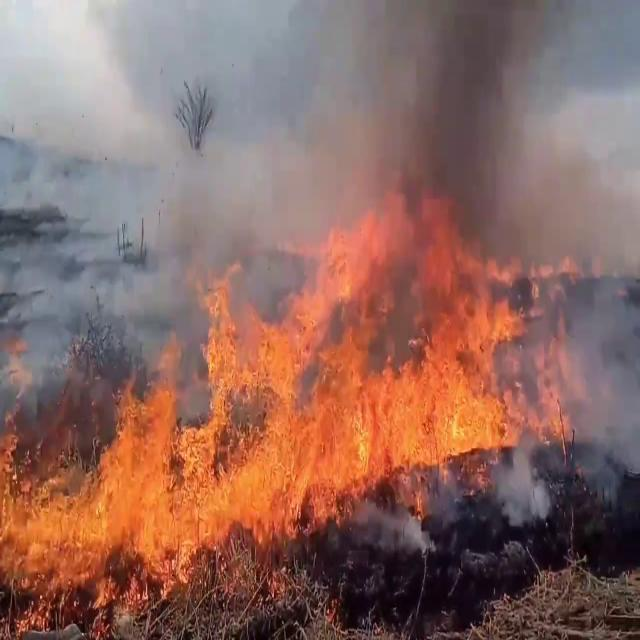Fire: (0, 203, 574, 630)
Smoke: (142, 0, 624, 261)
